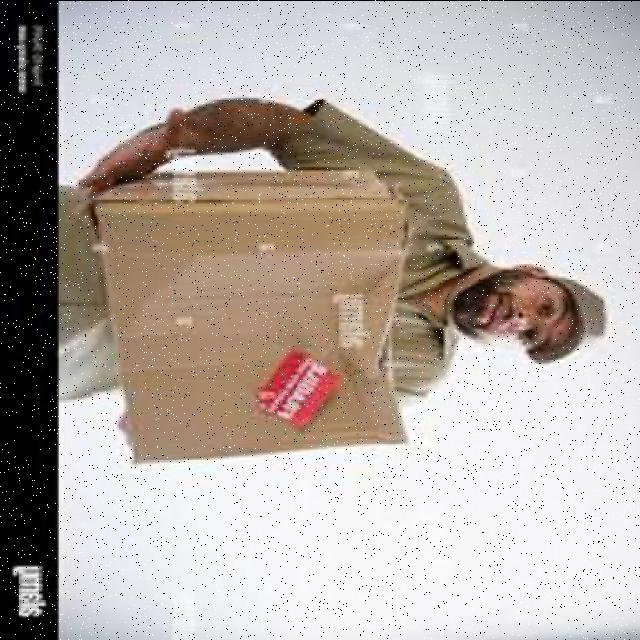normal: (92, 166, 412, 460)
